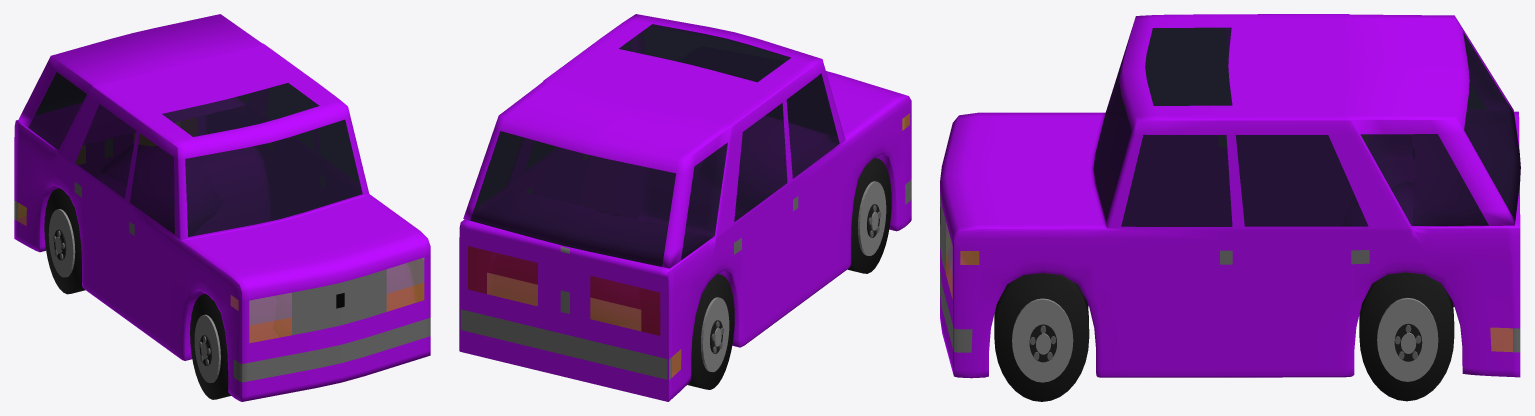
Rendered from car3wagonpurporientation.fbx.
The picture shows the model from 3 angles, left to right: view 1: azimuth 30°, elevation 25°; view 2: azimuth 150°, elevation 25°; view 3: azimuth 270°, elevation 25°; orthographic projection. The views are drawn at different scales.
Visible parts, largest first — view 1: Car2, LugNut.001, LugNut.002; view 2: Car2, LugNut.002, LugNut.001; view 3: Car2, LugNut.004, LugNut.003.
Boxes of the visible parts, x1,y1,x2,y2 form: Car2: (14, 14, 430, 401); LugNut.001: (190, 294, 231, 399); LugNut.002: (44, 188, 85, 294); Car2: (459, 14, 911, 401); LugNut.002: (687, 274, 734, 389); LugNut.001: (847, 158, 891, 273); Car2: (940, 14, 1520, 378); LugNut.004: (994, 273, 1089, 401); LugNut.003: (1359, 272, 1454, 401).
Size of the model in its own units: 187 by 204 by 385.
